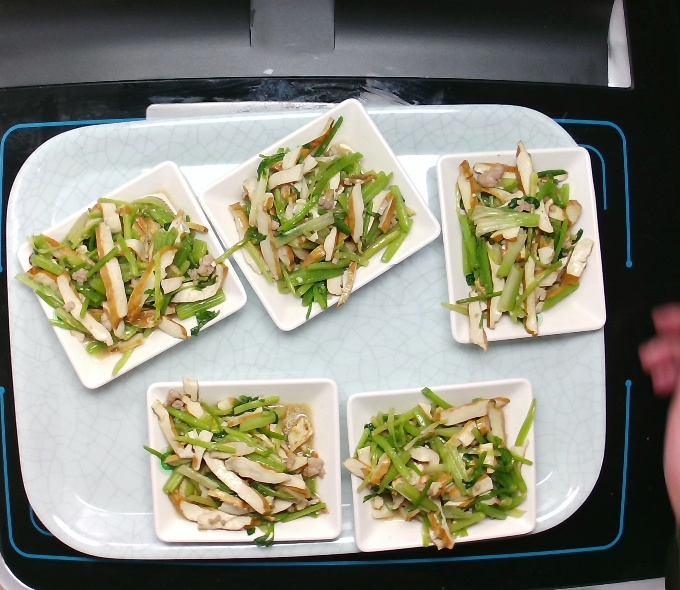wcq-XiangGanQinCai: (209, 111, 419, 324), (14, 186, 236, 379), (436, 134, 598, 355), (339, 381, 544, 555), (140, 372, 331, 551)
